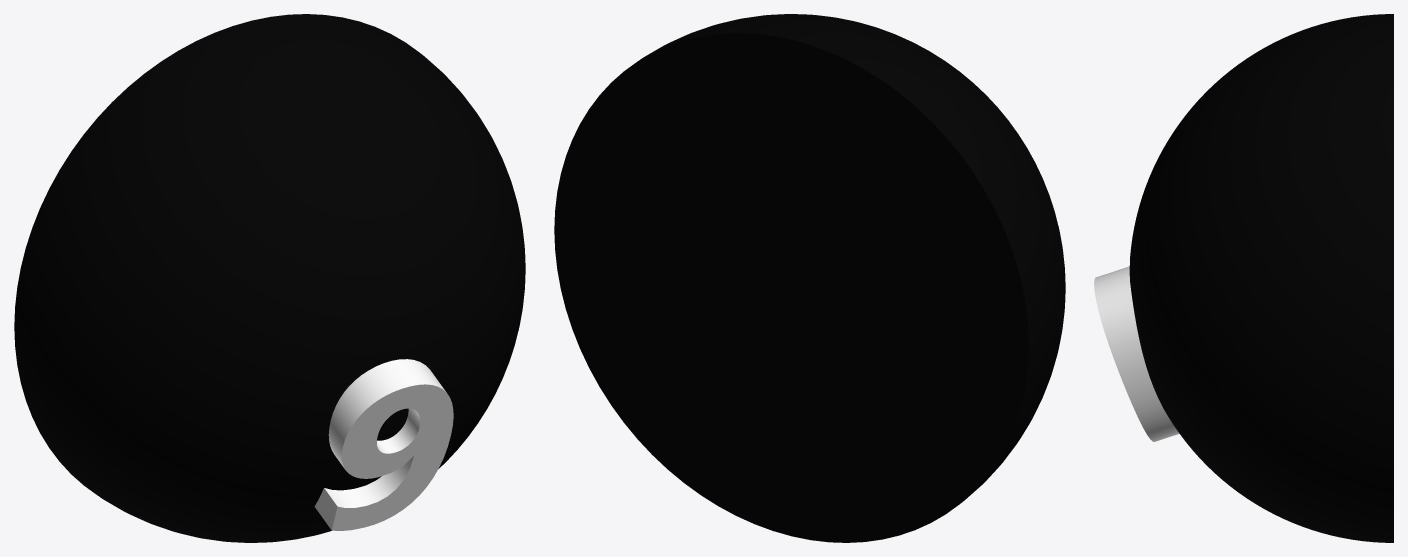
The model's file is button9.fbx.
3 renders of one model, left to right at view 1: azimuth 30°, elevation 25°; view 2: azimuth 150°, elevation 25°; view 3: azimuth 270°, elevation 25°, orthographic. The views are drawn at different scales.
Visible parts, largest first — view 1: root, node_id147; view 2: root; view 3: root, node_id147.
Boxes of the visible parts, <box> form: root: <box>14,14,525,542</box>; node_id147: <box>314,359,453,530</box>; root: <box>554,14,1065,542</box>; root: <box>1129,14,1393,542</box>; node_id147: <box>1094,266,1179,441</box>.
Size of the model in its own units: 0.4739 by 0.4739 by 0.2684.
Materials: 2 (2 with a texture image).
